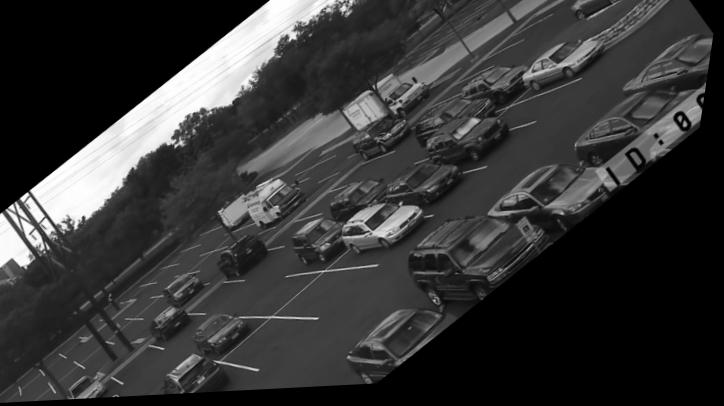empty: (289, 276, 382, 326), (247, 261, 327, 315), (235, 322, 315, 366), (503, 90, 582, 131), (121, 345, 178, 388), (343, 158, 396, 190), (490, 28, 538, 63), (304, 189, 353, 222), (153, 361, 193, 395), (201, 286, 250, 313), (468, 54, 512, 84), (436, 81, 477, 109), (294, 161, 336, 187), (277, 220, 317, 247), (88, 345, 127, 371), (394, 151, 432, 177), (118, 320, 157, 344), (64, 367, 97, 395), (60, 359, 90, 387), (106, 319, 141, 343), (200, 250, 235, 273), (224, 228, 260, 250), (49, 353, 80, 377), (131, 298, 164, 319), (83, 341, 114, 363), (34, 379, 62, 403), (144, 299, 174, 321), (31, 368, 55, 394), (206, 234, 237, 254), (154, 278, 186, 297), (183, 255, 213, 275), (68, 339, 97, 359), (196, 230, 225, 248), (127, 286, 161, 301), (209, 260, 230, 282), (154, 268, 185, 282), (176, 250, 204, 265), (45, 387, 70, 402), (11, 387, 33, 404), (146, 321, 165, 338)
occupied: (419, 224, 568, 308), (345, 311, 475, 382), (580, 97, 709, 168), (492, 173, 639, 226), (628, 39, 716, 98), (349, 204, 434, 263), (525, 46, 608, 97), (431, 120, 509, 173), (394, 167, 474, 209), (357, 111, 418, 166), (250, 181, 314, 231), (174, 355, 249, 397), (419, 101, 487, 147), (225, 236, 281, 284), (336, 181, 394, 227), (204, 316, 265, 359), (299, 221, 350, 270), (465, 71, 528, 109), (159, 307, 203, 344), (572, 0, 631, 26), (171, 273, 213, 309), (80, 377, 120, 401)
